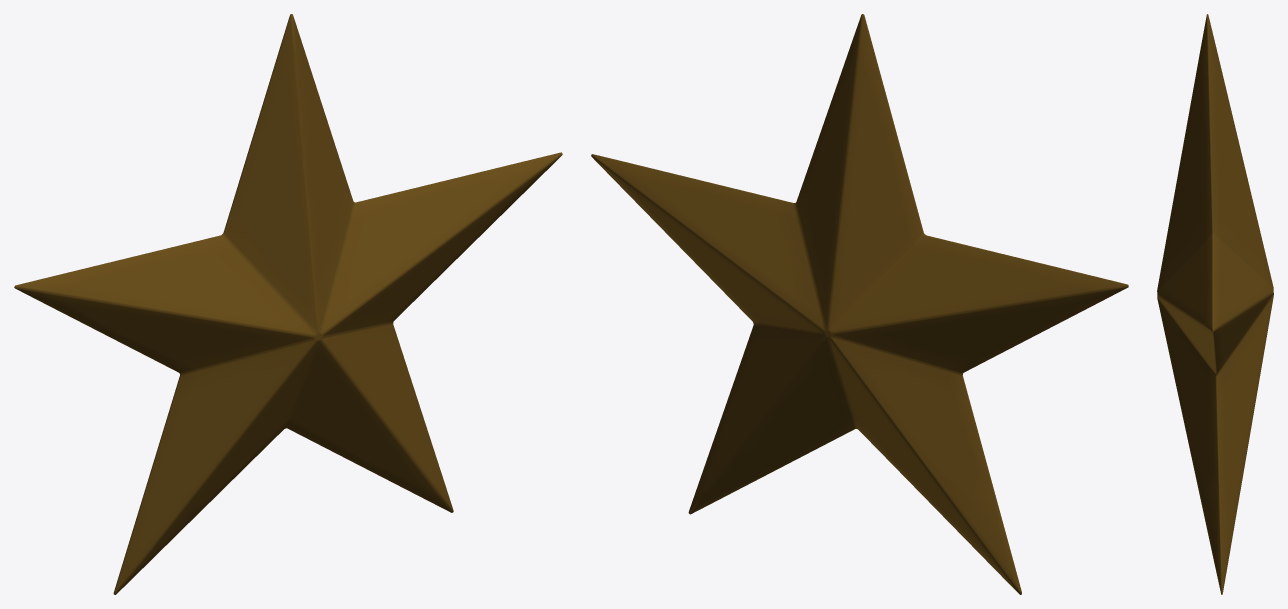
Rendered from star.obj.
3 renders of one model, left to right at view 1: azimuth 30°, elevation 25°; view 2: azimuth 150°, elevation 25°; view 3: azimuth 270°, elevation 25°, orthographic. The views are drawn at different scales.
Size of the model in its own units: 0.7712 by 0.7336 by 0.1537.
